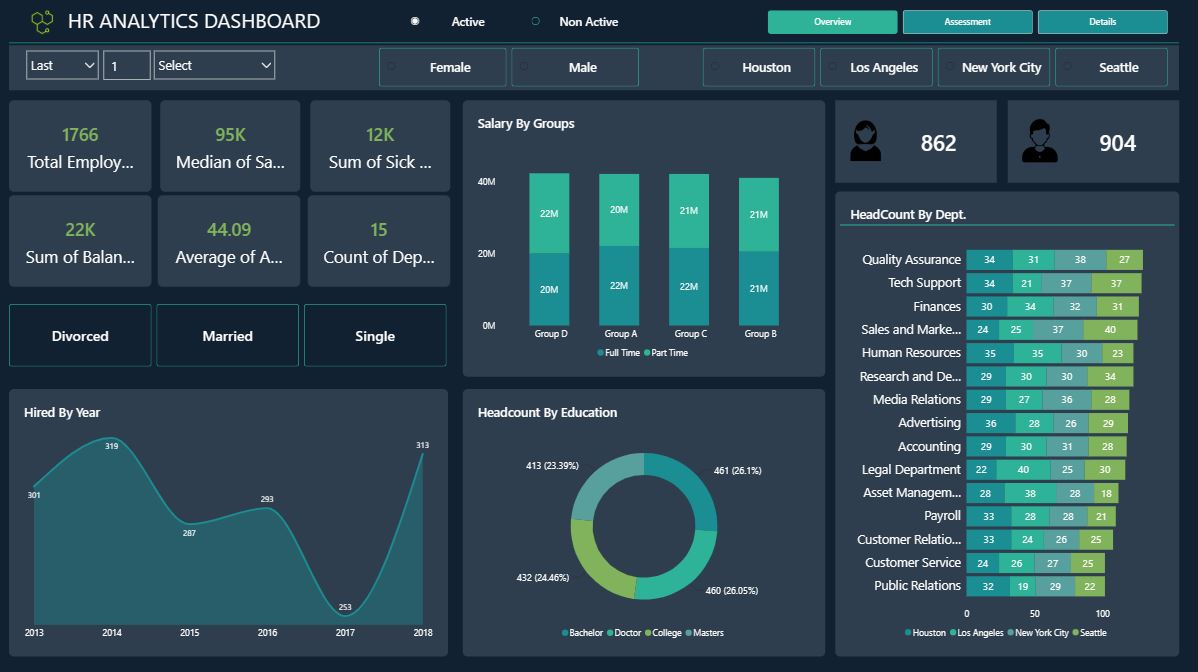

The dashboard page shown, as its layout file describes it:
{"tool":"powerbi","page":{"name":"Overview","canvas":[1920,1080],"ordinal":0},"visuals":[{"type":"columnChart","title":"Salary By Groups","fields":{"Category":["Human Resources.Groups"],"Series":["Human Resources.Job Type"],"Y":["Sum(Human Resources.Salary)"]},"box":[742,162,580,442],"z":0},{"type":"areaChart","title":"Hired By Year","fields":{"Category":["Human Resources.Hire Date.Variation.Date Hierarchy.Year","Human Resources.Hire Date.Variation.Date Hierarchy.Quarter","Human Resources.Hire Date.Variation.Date Hierarchy.Month"],"Y":["CountNonNull(Human Resources.Last Name)"]},"box":[16,624,702,428],"z":1000},{"type":"donutChart","title":"Headcount By Education","fields":{"Category":["Human Resources.Education"],"Y":["CountNonNull(Human Resources.Last Name)"]},"box":[742,624,580,428],"z":2000},{"type":"barChart","title":"HeadCount By Dept.","fields":{"Category":["Human Resources.Departmets"],"Series":["Human Resources.Business Unit"],"Y":["CountNonNull(Human Resources.Last Name)"]},"box":[1338,308,550,744],"z":3000},{"type":"textbox","box":[94,12,436,52],"z":4000},{"type":"shape","box":[16,56,1872,28],"z":5000},{"type":"shape","box":[16,74,1872,72],"z":6000},{"type":"image","box":[44,18,50.5,38.1],"z":7000},{"type":"card","fields":{"Values":["CountNonNull(Human Resources.Last Name)"]},"box":[16,162,228,146],"z":8000},{"type":"card","fields":{"Values":["Median(Human Resources.Salary)"]},"box":[258,162,224,146],"z":9000},{"type":"card","fields":{"Values":["Sum(Human Resources.Sick Days)"]},"box":[498,162,224,146],"z":10000},{"type":"card","fields":{"Values":["Sum(Human Resources.Balance Days)"]},"box":[16,314,228,146],"z":11000},{"type":"card","fields":{"Values":["Avg(Human Resources.Age)"]},"box":[254,314,228,146],"z":12000},{"type":"card","fields":{"Values":["Count(Human Resources.Departmets)"]},"box":[494,314,228,146],"z":13000},{"type":"cardVisual","fields":{"Data":["CountNonNull(Human Resources.Last Name)"]},"box":[1338,162,258,132],"z":14000},{"type":"cardVisual","fields":{"Data":["CountNonNull(Human Resources.Last Name)"]},"box":[1614,162,274,132],"z":15000},{"type":"advancedSlicerVisual","fields":{"Values":["Human Resources.Marital Status"]},"box":[16.2,489,702,100],"z":16000},{"type":"advancedSlicerVisual","fields":{"Values":["Human Resources.Business Unit"]},"box":[1126,78,746,62],"z":17000},{"type":"advancedSlicerVisual","fields":{"Values":["Human Resources.Gender"]},"box":[608,78,416,62],"z":18000},{"type":"slicer","fields":{"Values":["Human Resources.Hire Date"]},"box":[36,78,416,56],"z":19000},{"type":"advancedSlicerVisual","fields":{"Values":["Human Resources.Emp.Type"]},"box":[646.6,3.6,378.2,64.8],"z":19002},{"type":"pageNavigator","box":[1272.7,15.8,599.4,38.7],"z":19003}]}

Visuals, with their boxes in screenshot pixels (x1, y1, x2, y2), scaled from the page's 1920x1080 canvas onto the 1198x672 screenshot:
"Salary By Groups" columnChart: x1=463, y1=101, x2=825, y2=376
"Hired By Year" areaChart: x1=10, y1=388, x2=448, y2=655
"Headcount By Education" donutChart: x1=463, y1=388, x2=825, y2=655
"HeadCount By Dept." barChart: x1=835, y1=192, x2=1178, y2=655
textbox: x1=59, y1=7, x2=331, y2=40
shape: x1=10, y1=35, x2=1178, y2=52
shape: x1=10, y1=46, x2=1178, y2=91
image: x1=27, y1=11, x2=59, y2=35
card - CountNonNull(Human Resources.Last Name): x1=10, y1=101, x2=152, y2=192
card - Median(Human Resources.Salary): x1=161, y1=101, x2=301, y2=192
card - Sum(Human Resources.Sick Days): x1=311, y1=101, x2=450, y2=192
card - Sum(Human Resources.Balance Days): x1=10, y1=195, x2=152, y2=286
card - Avg(Human Resources.Age): x1=158, y1=195, x2=301, y2=286
card - Count(Human Resources.Departmets): x1=308, y1=195, x2=450, y2=286
cardVisual - CountNonNull(Human Resources.Last Name): x1=835, y1=101, x2=996, y2=183
cardVisual - CountNonNull(Human Resources.Last Name): x1=1007, y1=101, x2=1178, y2=183
advancedSlicerVisual - Human Resources.Marital Status: x1=10, y1=304, x2=448, y2=366
advancedSlicerVisual - Human Resources.Business Unit: x1=703, y1=49, x2=1168, y2=87
advancedSlicerVisual - Human Resources.Gender: x1=379, y1=49, x2=639, y2=87
slicer - Human Resources.Hire Date: x1=22, y1=49, x2=282, y2=83
advancedSlicerVisual - Human Resources.Emp.Type: x1=403, y1=2, x2=639, y2=43
pageNavigator: x1=794, y1=10, x2=1168, y2=34
